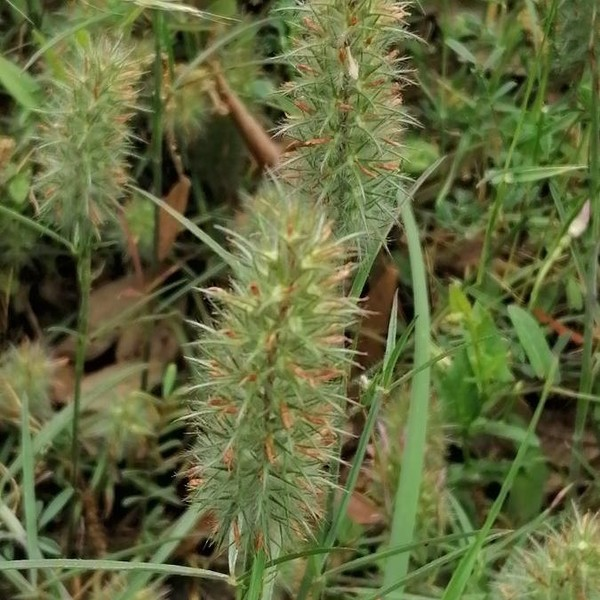obstacle: (200, 52, 475, 576)
